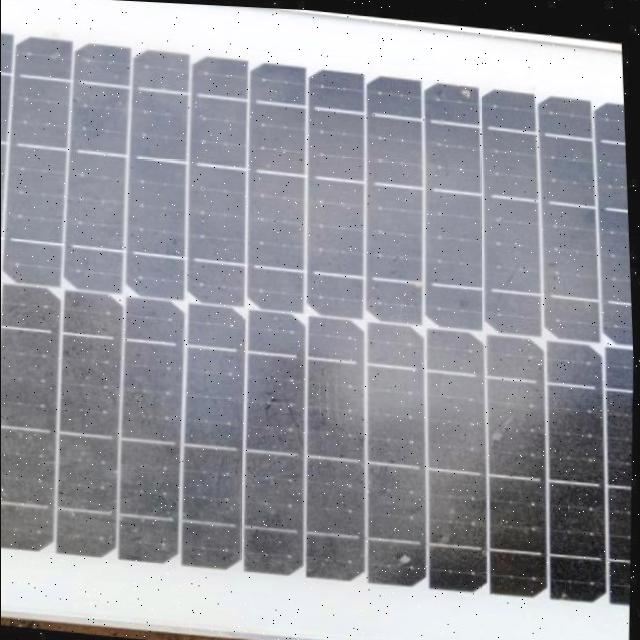Anomaly Solar Panel: (0, 8, 640, 640)
Surface Contaminant: (0, 25, 635, 640)
